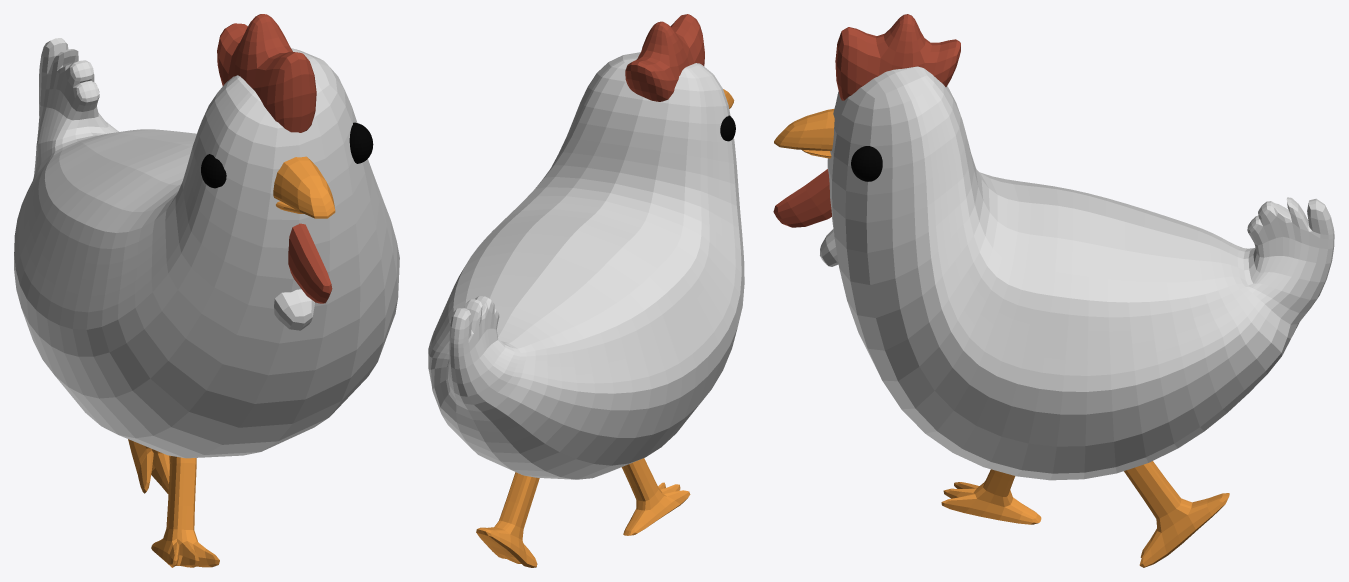
The model's file is chicken22.11.2023.fbx.
3 renders of one model, left to right at view 1: azimuth 30°, elevation 25°; view 2: azimuth 150°, elevation 25°; view 3: azimuth 270°, elevation 25°, orthographic. The views are drawn at different scales.
Visible parts, largest first — view 1: Cube, Cube.004, Cube.008, Cube.001, Cube.003, Cube.007, Cube.006, Cube.005, Cube.002; view 2: Cube, Cube.004, Cube.007, Cube.008; view 3: Cube, Cube.004, Cube.007, Cube.008, Cube.003, Cube.001, Cube.005.
Boxes of the visible parts, left/top/right/bottom form: Cube: left=14, top=38, right=399, bottom=458; Cube.004: left=217, top=14, right=316, bottom=132; Cube.008: left=151, top=456, right=219, bottom=567; Cube.001: left=273, top=156, right=335, bottom=218; Cube.003: left=288, top=223, right=332, bottom=303; Cube.007: left=128, top=439, right=170, bottom=493; Cube.006: left=274, top=289, right=314, bottom=330; Cube.005: left=349, top=122, right=373, bottom=163; Cube.002: left=201, top=154, right=226, bottom=188; Cube: left=428, top=52, right=744, bottom=479; Cube.004: left=625, top=14, right=704, bottom=101; Cube.007: left=476, top=472, right=539, bottom=567; Cube.008: left=621, top=458, right=690, bottom=535; Cube: left=827, top=66, right=1334, bottom=480; Cube.004: left=835, top=14, right=960, bottom=100; Cube.007: left=1124, top=461, right=1229, bottom=567; Cube.008: left=941, top=469, right=1041, bottom=524; Cube.003: left=773, top=169, right=831, bottom=227; Cube.001: left=774, top=109, right=834, bottom=158; Cube.005: left=851, top=146, right=882, bottom=181.
Bounding box in the file's own units: 20.5 × 37.95 × 36.58.
